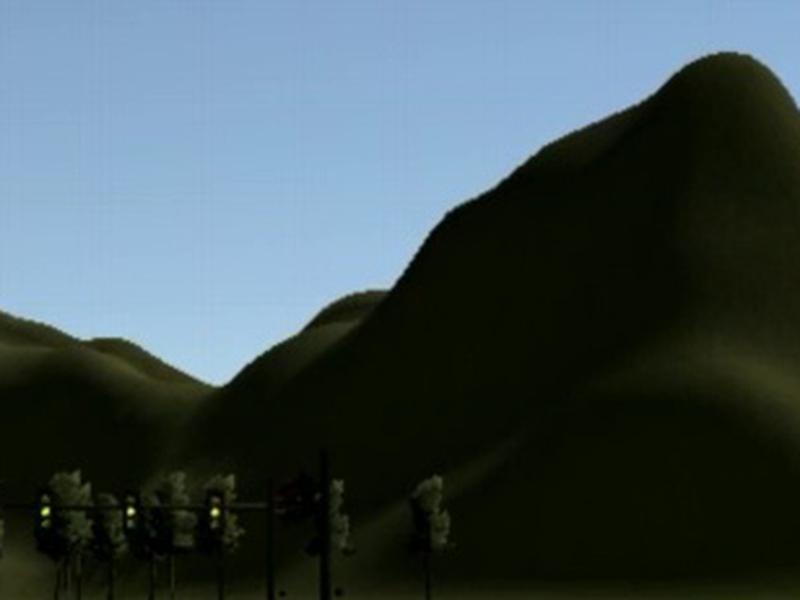Yellow: (121, 487, 140, 535), (206, 488, 225, 535), (37, 487, 55, 536)
